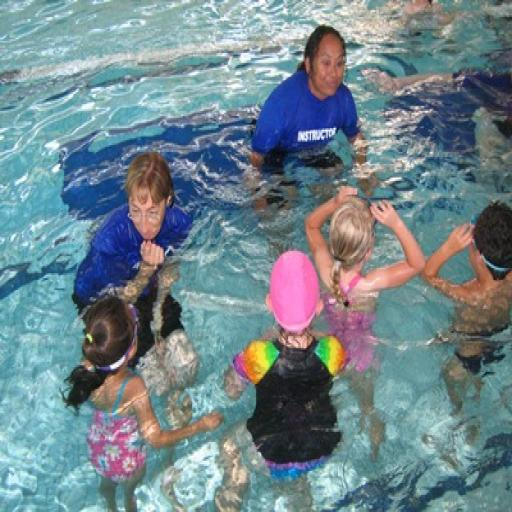swimming: (60, 294, 225, 510), (216, 248, 352, 510), (304, 182, 428, 462), (421, 196, 511, 418)
